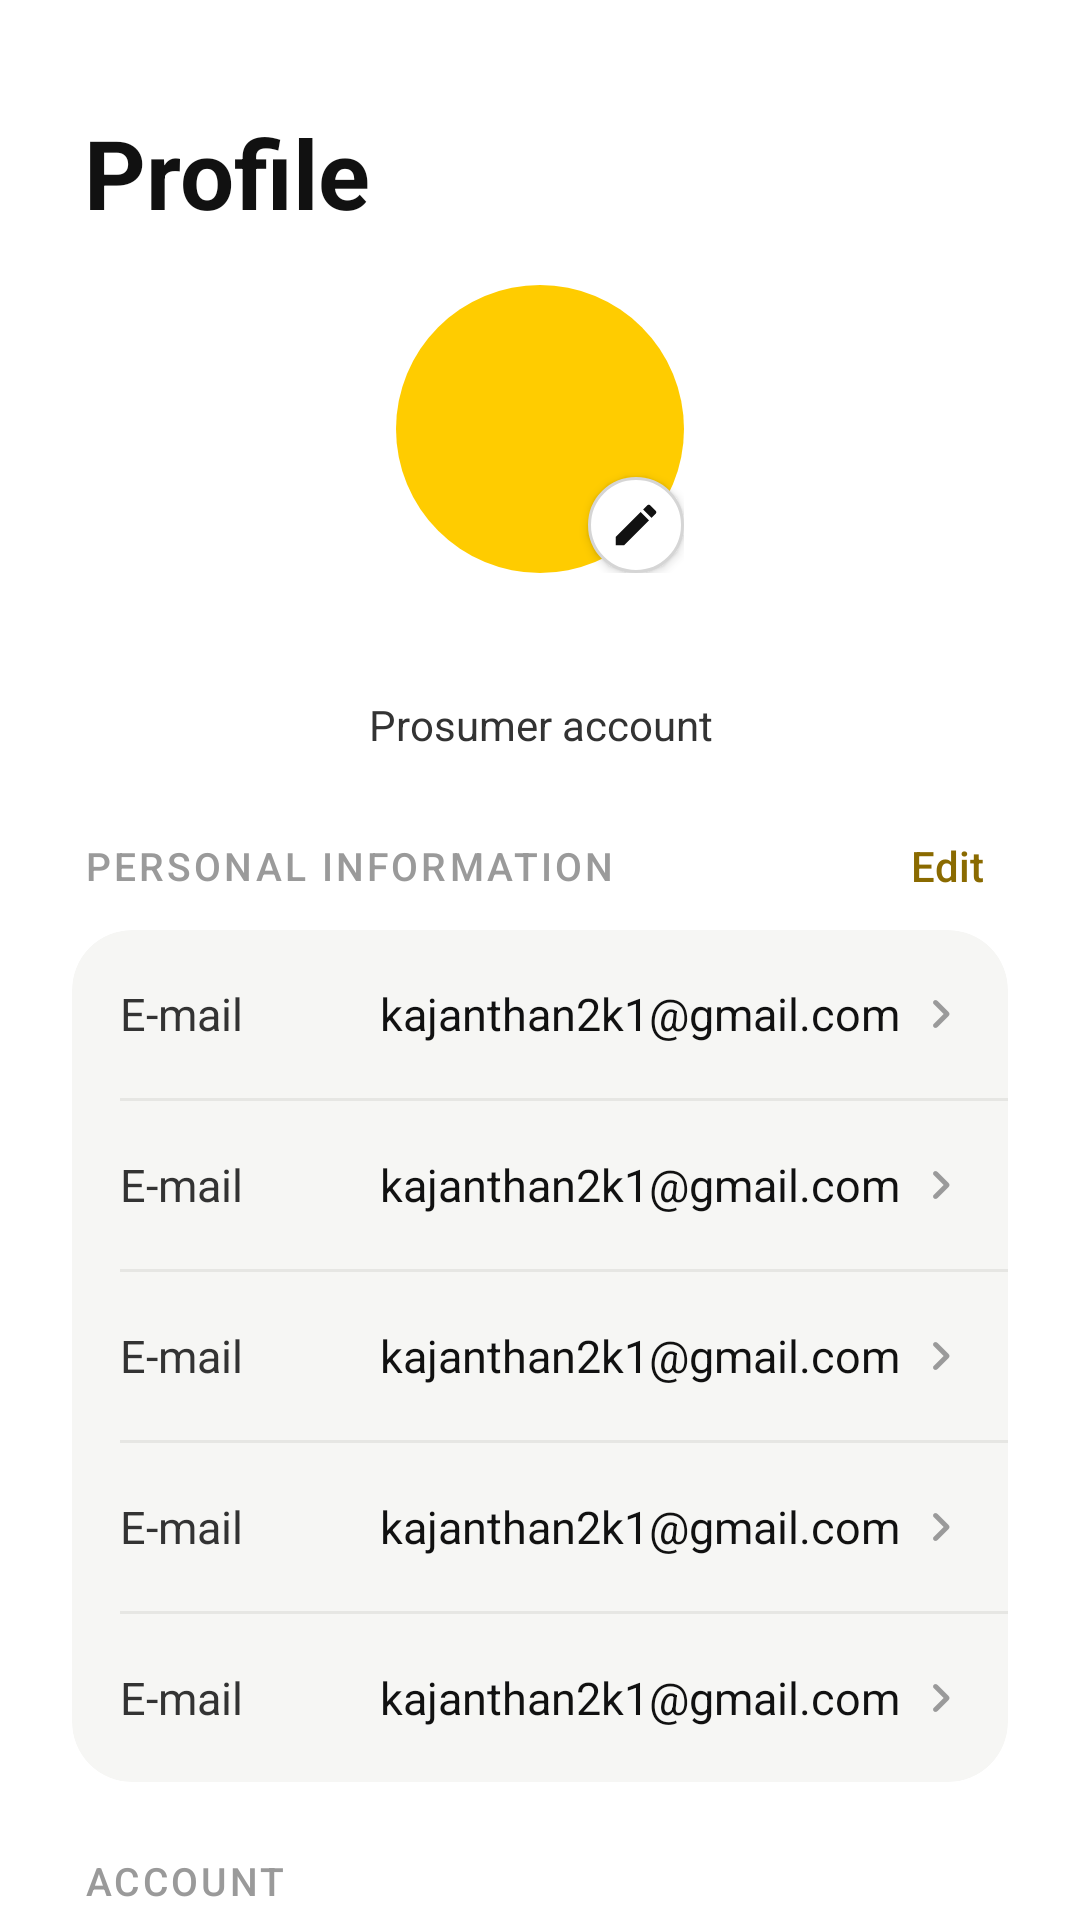

Icons on this 1080px×1920px Android screen, each with the point to tap as (x,y):
chevron right: (941,1014), (941,1185), (941,1356), (941,1527), (941,1698)
Edit profile: (636,525)
